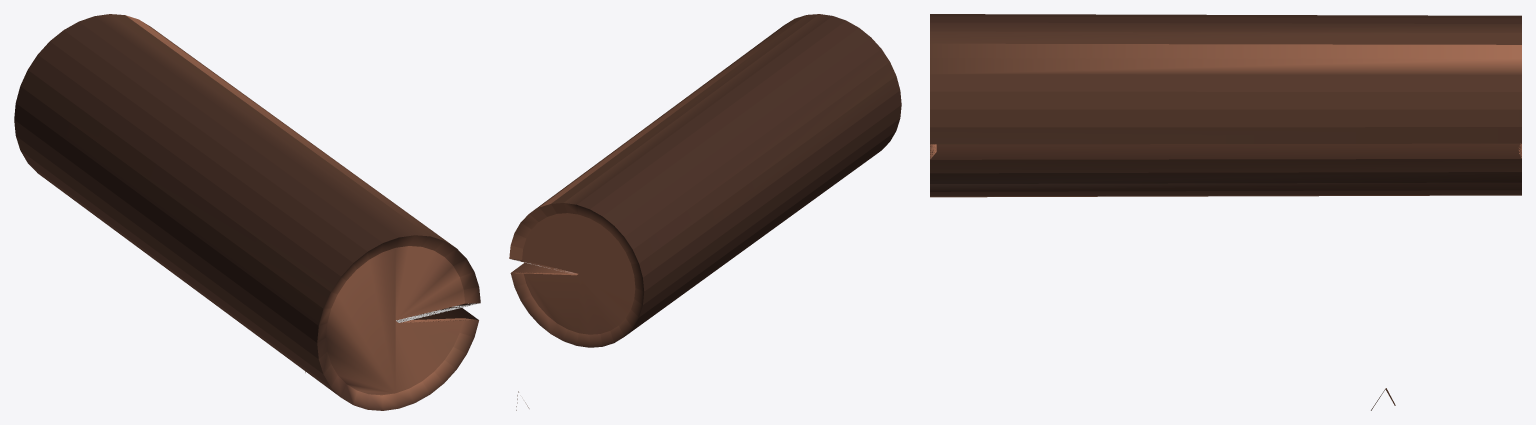
File: WOOD v1.fbx
3 views of the same model, side by side, from view 1: azimuth 30°, elevation 25°; view 2: azimuth 150°, elevation 25°; view 3: azimuth 270°, elevation 25° (orthographic). The views are drawn at different scales.
Parts seen in each view (by area): view 1: Cube; view 2: Cube; view 3: Cube.
Boxes of the visible parts, box(x1,y1,x2,y2) form: Cube: box(14, 14, 480, 410); Cube: box(509, 14, 901, 410); Cube: box(930, 14, 1521, 410).
Bounding box in the file's own units: 373 × 538 × 888.
